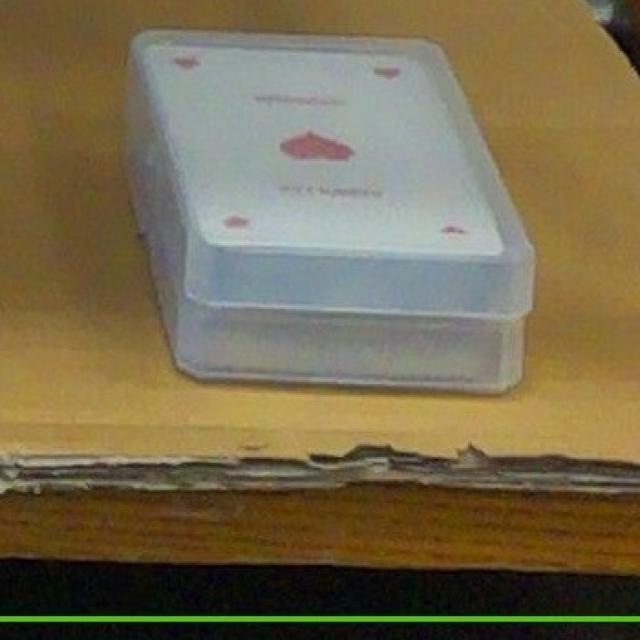Jasskarte: (122, 28, 536, 320), (120, 109, 525, 391)
